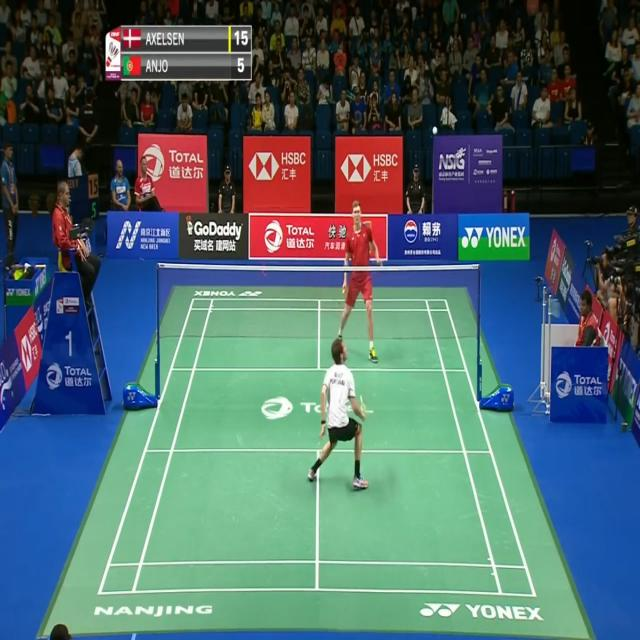Player1: (304, 334, 374, 490)
Player2: (333, 193, 388, 363)
